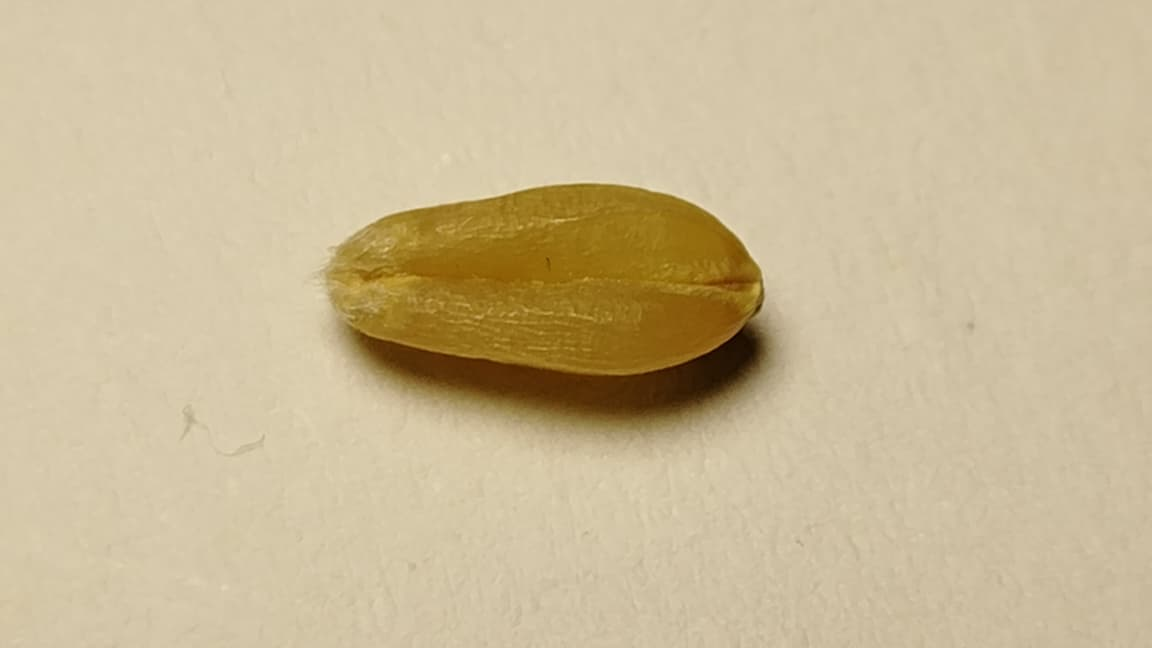healthy: (324, 184, 761, 373)
